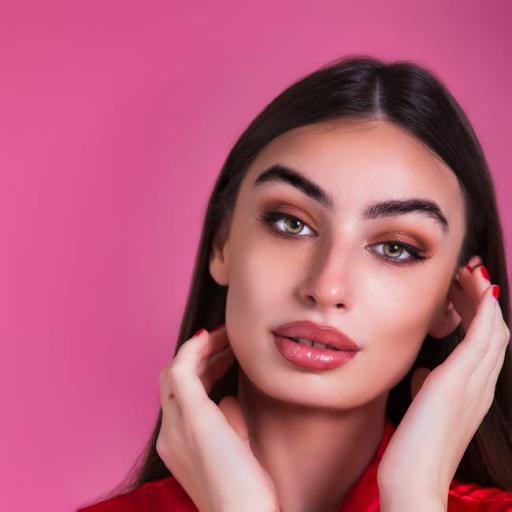lipstick: (273, 321, 359, 369)
